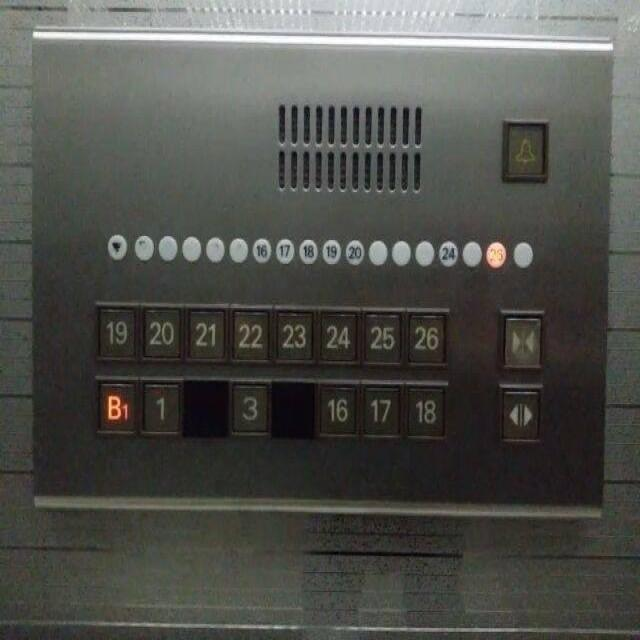1: (141, 382, 181, 434)
16: (319, 384, 354, 435), (247, 233, 273, 266)
17: (362, 384, 400, 433), (271, 235, 295, 268)
18: (404, 384, 445, 436), (295, 236, 318, 268)
19: (95, 303, 135, 357), (317, 234, 342, 266)
20: (139, 307, 179, 361), (341, 236, 366, 271)
21: (185, 308, 225, 357)
22: (229, 306, 270, 358)
23: (272, 308, 313, 361)
24: (318, 311, 357, 361), (434, 238, 459, 270)
25: (360, 310, 401, 362)
26: (405, 310, 446, 366), (483, 237, 506, 268)
3: (231, 383, 268, 433)
B1: (96, 380, 137, 432)
alarm: (501, 119, 548, 181)
blur: (224, 233, 249, 264), (132, 233, 155, 264), (179, 233, 202, 264), (203, 233, 224, 263), (157, 233, 177, 264)
close: (500, 308, 541, 371)
down: (105, 232, 127, 260)
empty: (179, 379, 228, 436), (269, 379, 314, 437), (508, 237, 535, 271), (458, 237, 484, 271), (365, 234, 388, 270), (388, 236, 412, 268), (411, 238, 435, 270)
open: (500, 387, 541, 441)
